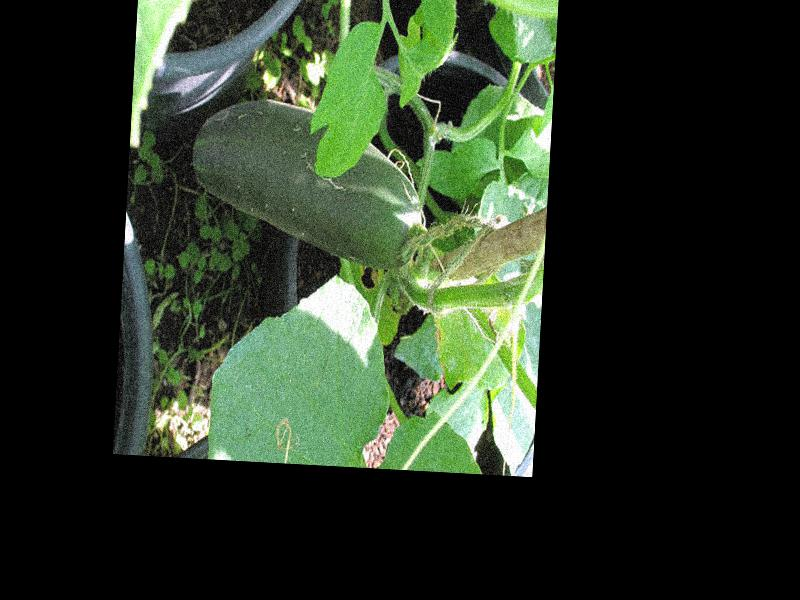Cucumber: (187, 97, 429, 272)
